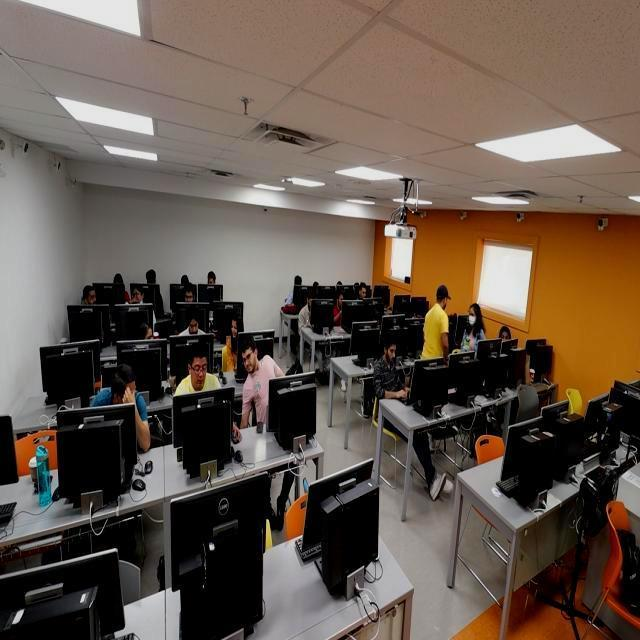Looking away: (188, 354, 208, 390), (432, 284, 453, 316), (241, 345, 259, 374), (118, 377, 136, 404), (383, 338, 398, 366), (133, 286, 151, 306), (82, 286, 98, 306), (187, 314, 200, 336), (230, 317, 240, 342), (467, 304, 477, 328), (184, 288, 197, 306), (362, 286, 368, 300)
